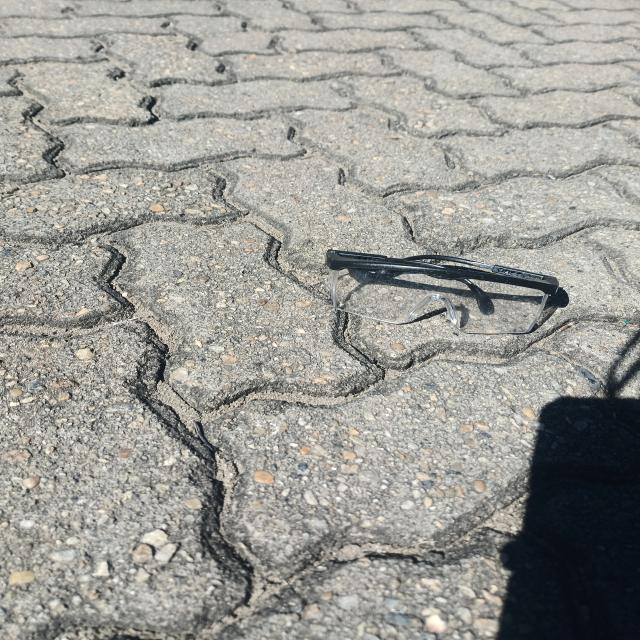oculos-epi: (327, 249, 560, 334)
